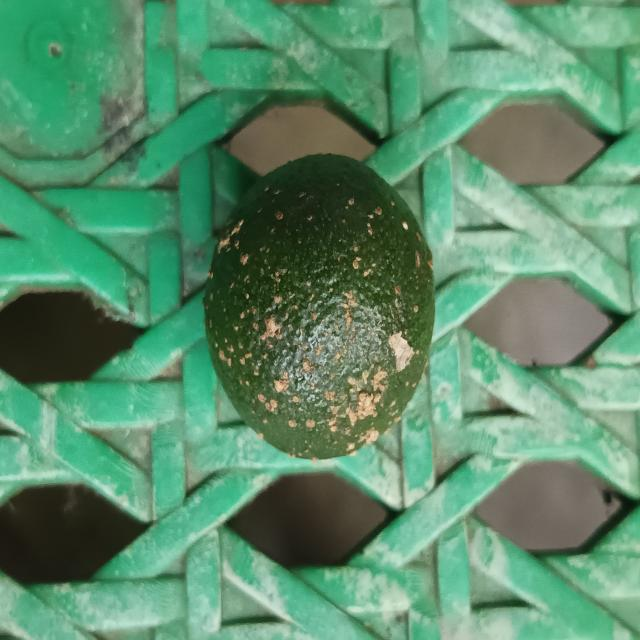scab: (198, 145, 439, 465)
